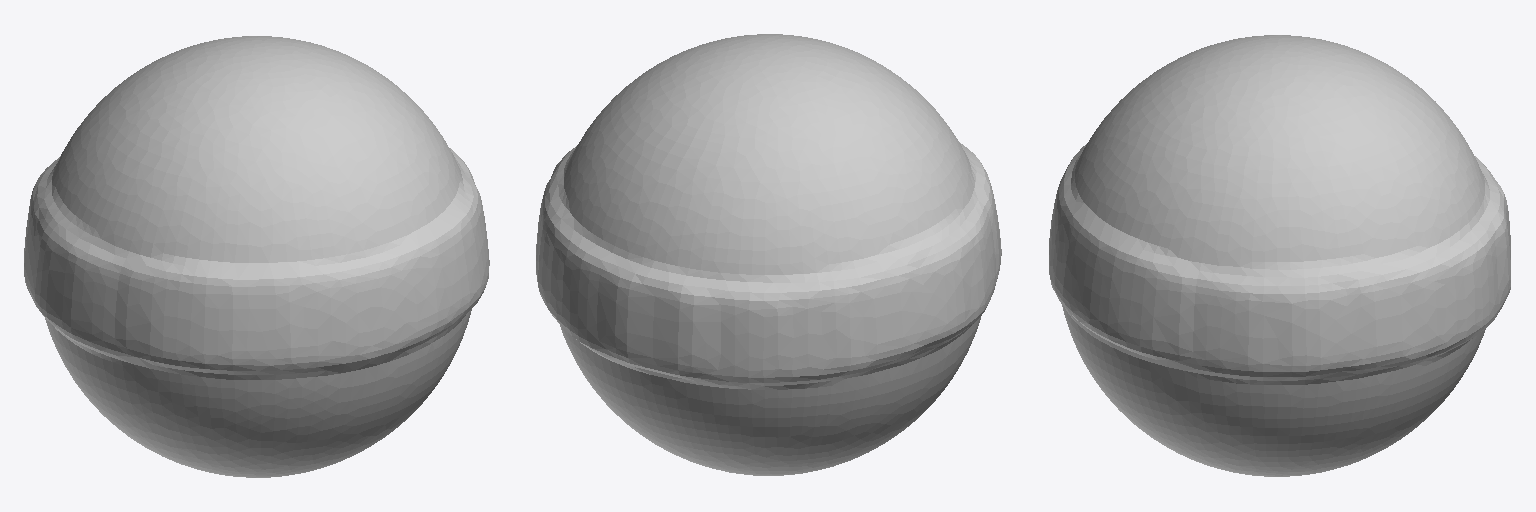
Rendered from planete4.obj.
3 views of the same model, side by side, from view 1: azimuth 30°, elevation 25°; view 2: azimuth 150°, elevation 25°; view 3: azimuth 270°, elevation 25° (orthographic).
Parts seen in each view (by area): view 1: planete4_Sphere; view 2: planete4_Sphere; view 3: planete4_Sphere.
Boxes of the visible parts, x1,y1,x2,y2 form: planete4_Sphere: [24, 36, 489, 477]; planete4_Sphere: [536, 34, 1001, 475]; planete4_Sphere: [1049, 35, 1510, 476].
Bounding box in the file's own units: 2.13 × 2 × 2.09.